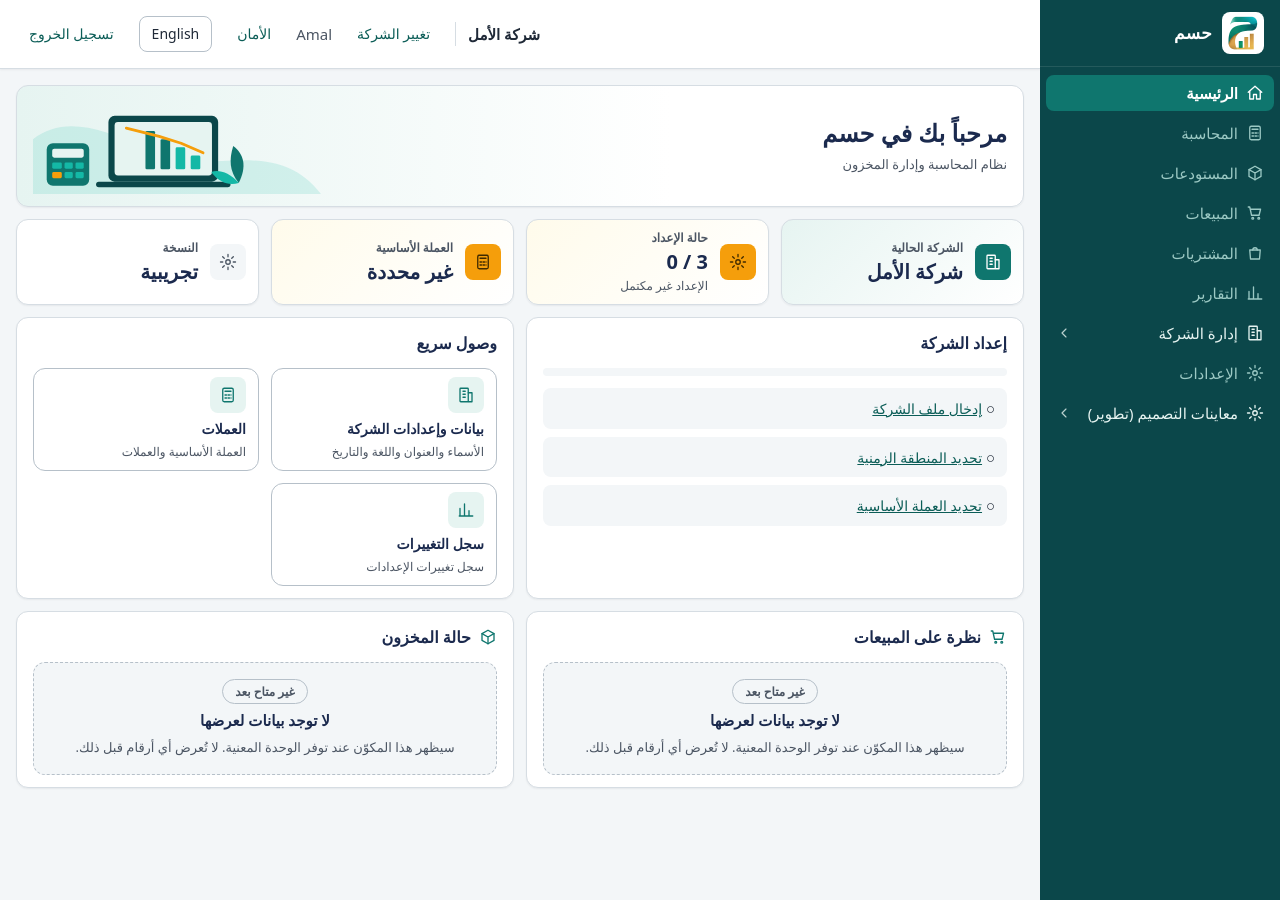
Scenario: security settings screen › shows the server's mfa.required=false for a user without two-step verification
Click the button with test id "nav-security". click: click(254, 34)
box: x1=224 y1=16 x2=284 y2=52
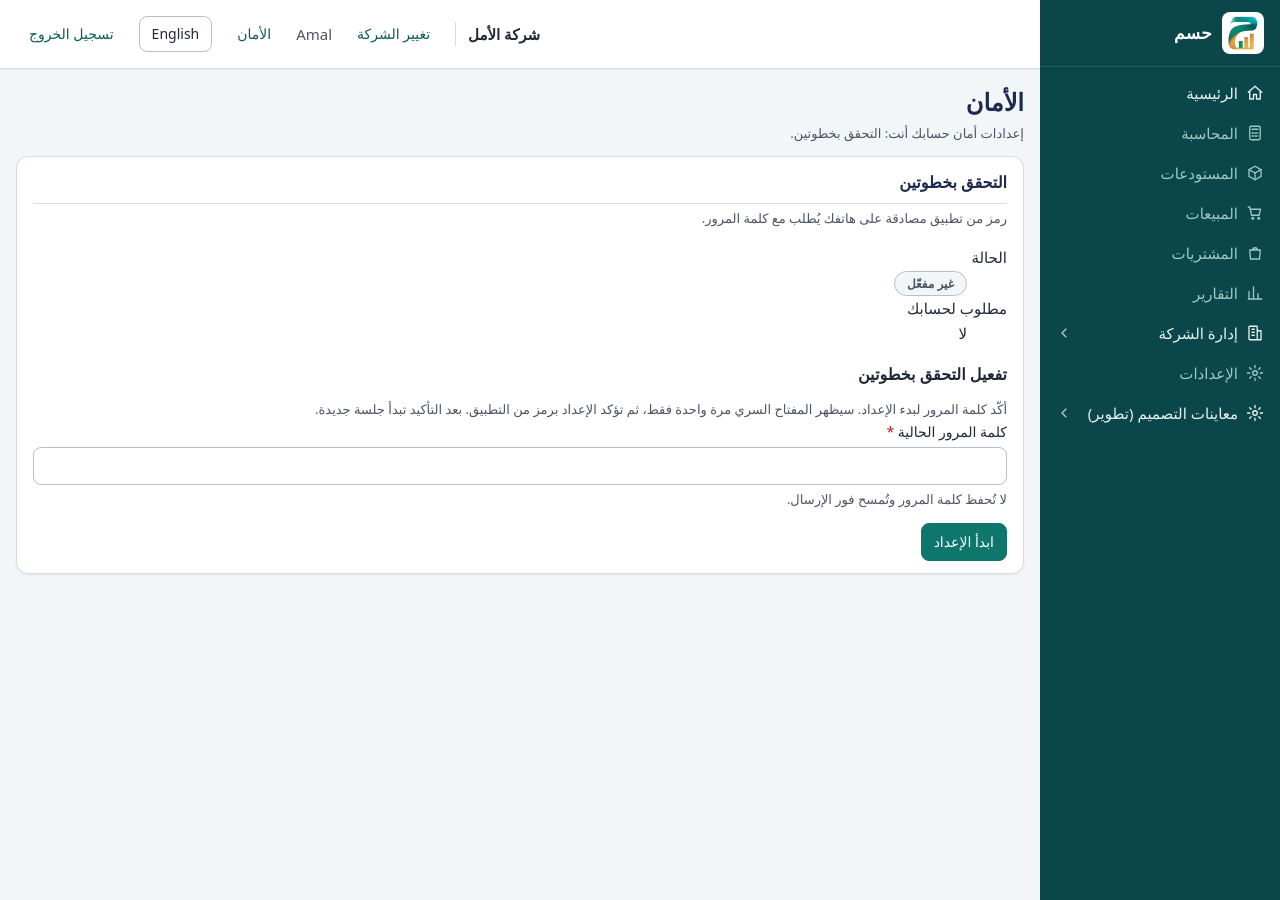
expect the text with test id "sec-required" reads "لا": met, box x1=958 y1=323 x2=967 y2=343
expect the heading "الأمان" is shown: met, box x1=966 y1=85 x2=1024 y2=118
expect the element with test id "sec-enrol-begin" is shown: met, box x1=33 y1=360 x2=1007 y2=561
